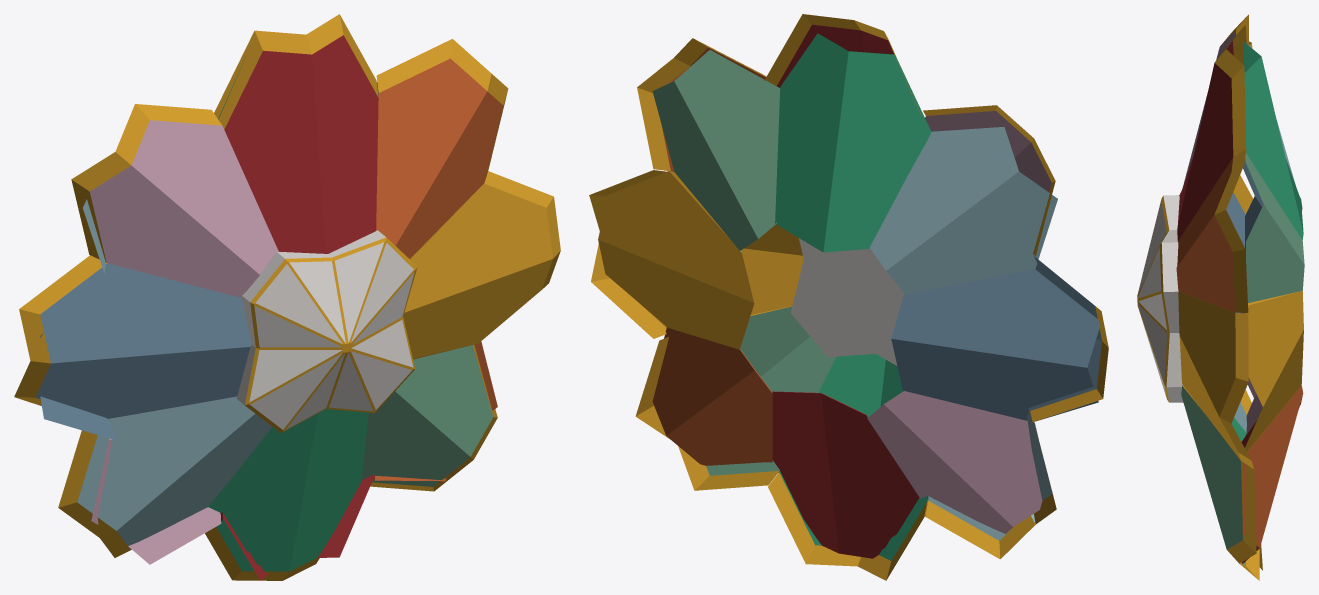
Rendered from phiras.glb.
3 views of the same model, side by side, from view 1: azimuth 30°, elevation 25°; view 2: azimuth 150°, elevation 25°; view 3: azimuth 270°, elevation 25° (orthographic). The views are drawn at different scales.
Visible parts, largest first — view 1: Plane.021, Plane.021_Material.015_0.001, Plane.021_Material.018_0.001, Plane.021_Material.011_0.001, Plane.021_Material.006_0.001; view 2: Plane.021, Plane.021_Material.009_0.001, Plane.021_Material.011_0.001, Plane.021_Material.010_0.001, Plane.021_Material.007_0.001, Plane.021_Material.008_0.001, Plane.021_Material.018_0.001, Plane.021_Material.015_0.001, Plane.021_Material.006_0.001; view 3: Plane.021, Plane.021_Material.007_0.001, Plane.021_Material.008_0.001, Plane.021_Material.009_0.001, Plane.021_Material.006_0.001, Plane.021_Material.011_0.001, Plane.021_Material.015_0.001.
Part boxes in pixels (x1,y1,x2,y2): Plane.021: (14, 14, 560, 580); Plane.021_Material.015_0.001: (91, 438, 221, 564); Plane.021_Material.018_0.001: (220, 422, 374, 580); Plane.021_Material.011_0.001: (40, 333, 115, 439); Plane.021_Material.006_0.001: (374, 341, 497, 481); Plane.021: (589, 14, 1108, 580); Plane.021_Material.009_0.001: (775, 33, 931, 252); Plane.021_Material.011_0.001: (891, 269, 1100, 421); Plane.021_Material.010_0.001: (869, 127, 1057, 294); Plane.021_Material.007_0.001: (598, 171, 754, 349); Plane.021_Material.008_0.001: (652, 50, 780, 252); Plane.021_Material.018_0.001: (772, 391, 919, 558); Plane.021_Material.015_0.001: (867, 391, 1042, 533); Plane.021_Material.006_0.001: (652, 328, 772, 465); Plane.021: (1137, 14, 1262, 580); Plane.021_Material.007_0.001: (1245, 291, 1303, 452); Plane.021_Material.008_0.001: (1245, 153, 1304, 302); Plane.021_Material.009_0.001: (1243, 41, 1303, 240); Plane.021_Material.006_0.001: (1241, 385, 1303, 563); Plane.021_Material.011_0.001: (1243, 158, 1263, 255); Plane.021_Material.015_0.001: (1240, 312, 1262, 436).
Bounding box in the file's own units: 0.9093 × 0.9077 × 0.2677.
